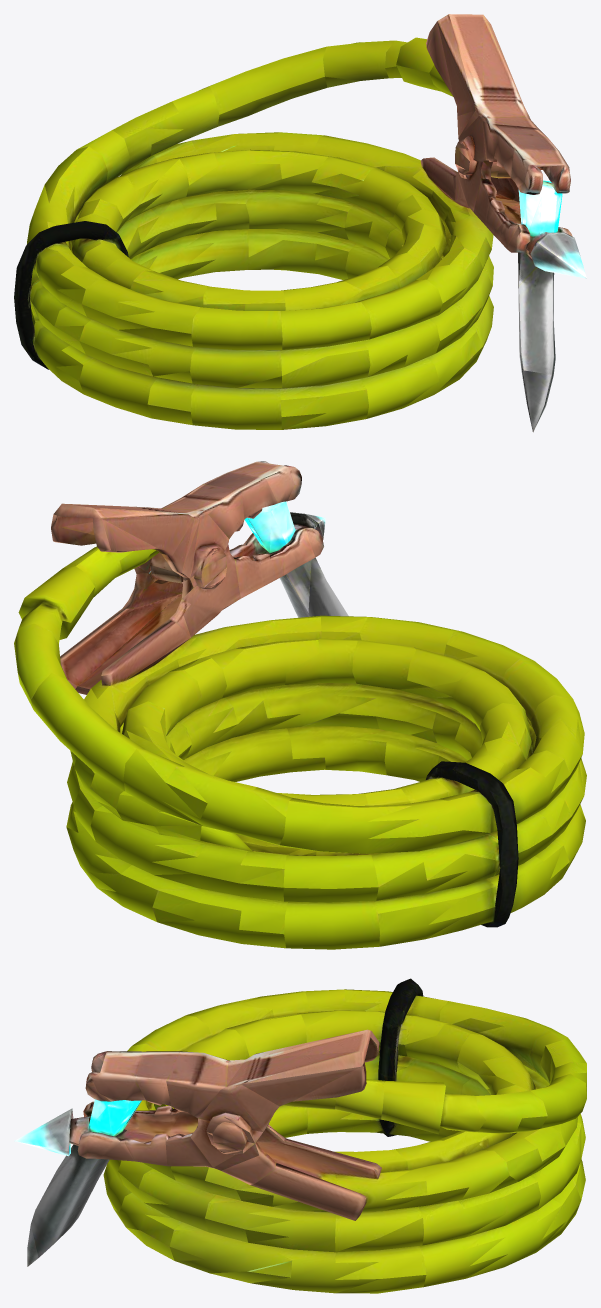
The model's file is ground_wire.glb.
3 renders of one model, top to bottom at view 1: azimuth 30°, elevation 25°; view 2: azimuth 150°, elevation 25°; view 3: azimuth 270°, elevation 25°, orthographic. The views are drawn at different scales.
Bounding box in the file's own units: 0.916 × 0.5371 × 1.
1 material, 1 textured.
